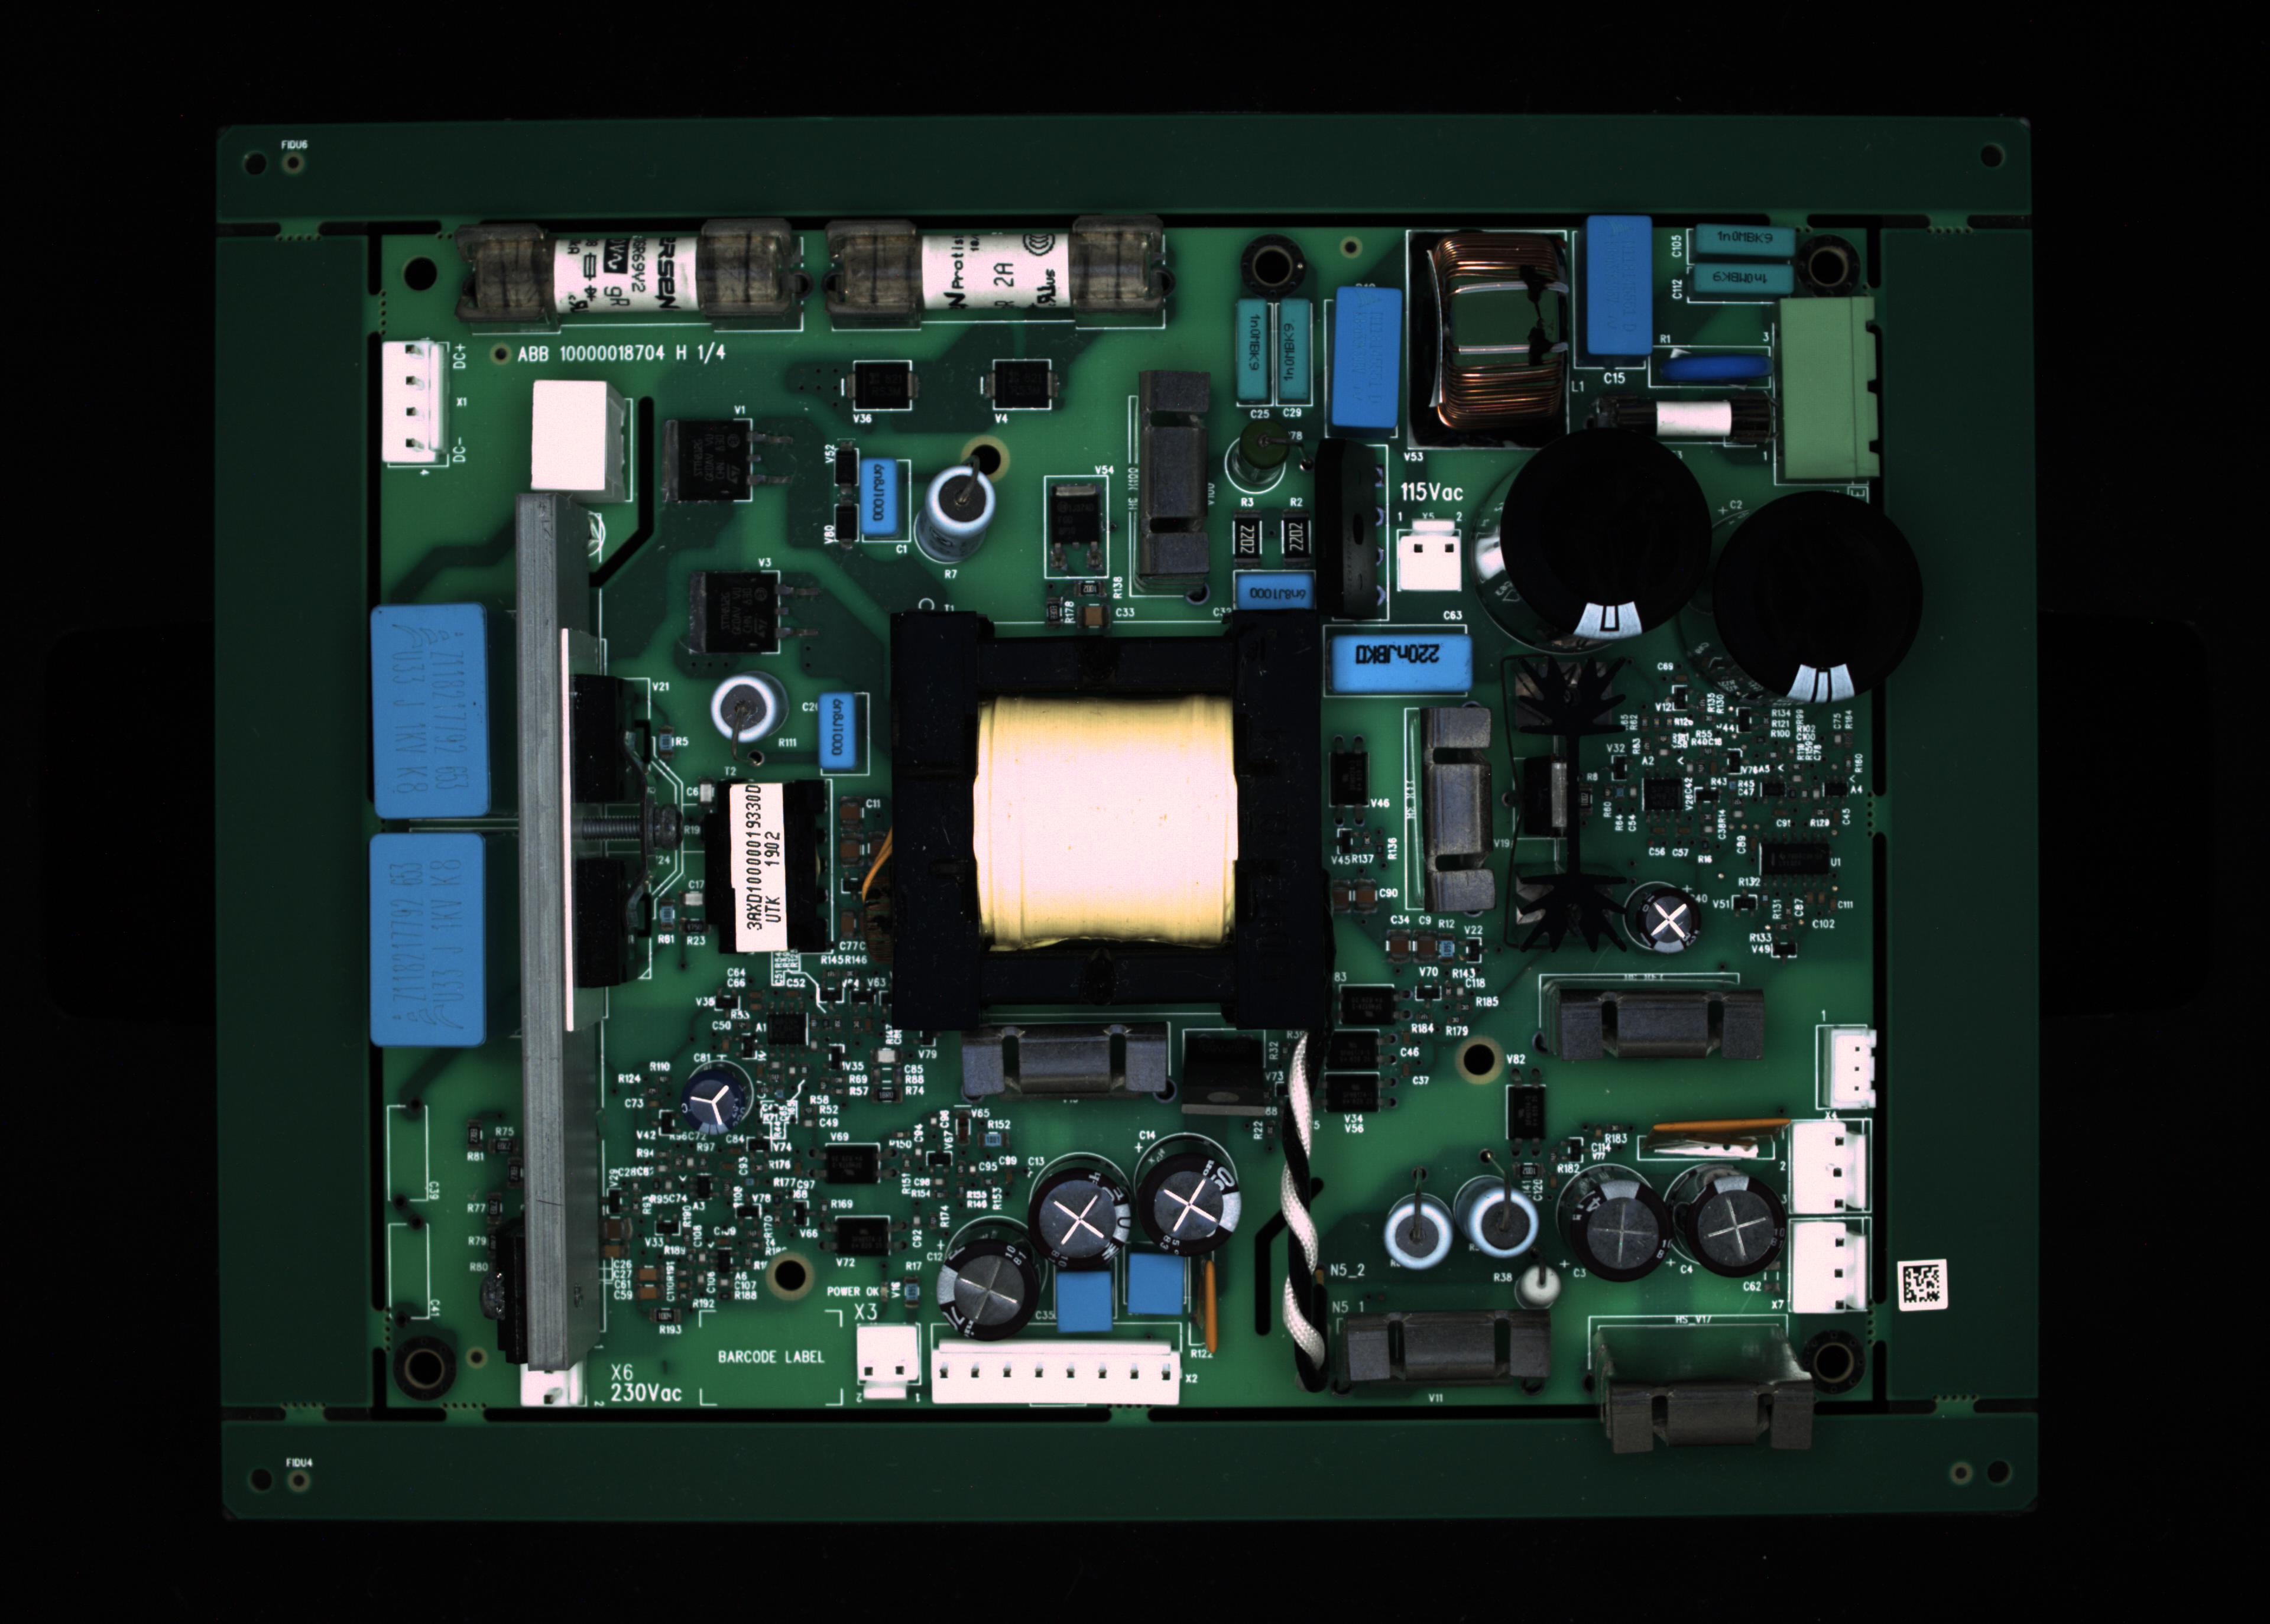10_p: (1648, 346, 1772, 394)
11_q: (1783, 295, 1880, 482)
12_r: (1591, 387, 1776, 455)
13_s: (380, 337, 443, 462)
14_t: (529, 380, 628, 497)
15_e: (858, 459, 899, 534)
16_k: (927, 464, 995, 533)
17_u: (1132, 369, 1204, 596)
18_v: (1234, 569, 1312, 608)
19_w: (1333, 636, 1466, 691)
1_a: (459, 223, 807, 332)
20_f: (1398, 522, 1463, 592)
21_g: (1498, 429, 1714, 638)
22_g: (1713, 494, 1925, 701)
23_h: (371, 603, 484, 816)
24_h: (369, 837, 484, 1048)
25_f: (519, 1359, 587, 1410)
26_f: (856, 1323, 921, 1401)
27_x: (927, 1336, 1185, 1406)
28_i: (1131, 1151, 1240, 1257)
29_i: (1027, 1153, 1134, 1274)
2_a: (821, 225, 1169, 320)
30_i: (941, 1216, 1055, 1339)
31_j: (1050, 1267, 1120, 1339)
32_j: (1115, 1237, 1197, 1329)
33_e: (816, 691, 853, 770)
34_k: (1384, 1192, 1456, 1271)
35_k: (1472, 1192, 1540, 1257)
36_i: (1570, 1176, 1672, 1280)
37_i: (1690, 1176, 1792, 1283)
38_l: (1335, 1318, 1560, 1390)
39_l: (1604, 1381, 1811, 1454)
3_b: (1236, 301, 1270, 399)
40_l: (1539, 988, 1772, 1069)
41_y: (1422, 701, 1496, 916)
42_z: (1823, 1028, 1878, 1114)
43_m: (1792, 1120, 1874, 1216)
44_m: (1788, 1225, 1876, 1311)
45_i: (679, 1072, 746, 1141)
46_n: (1338, 982, 1393, 1028)
47_n: (826, 1146, 879, 1186)
48_n: (832, 1218, 891, 1258)
49_aa: (765, 1011, 809, 1048)
4_b: (1280, 299, 1310, 402)
50_n: (1321, 1030, 1377, 1072)
51_n: (1322, 1070, 1379, 1114)
52_ab: (1329, 750, 1368, 807)
53_ac: (1656, 1130, 1790, 1165)
54_ad: (1194, 1253, 1222, 1364)
55_l: (960, 1025, 1176, 1102)
56_ae: (1175, 1028, 1273, 1107)
57_af: (1509, 647, 1635, 951)
58_i: (1635, 884, 1700, 954)
59_o: (993, 360, 1050, 410)
5_c: (1331, 286, 1400, 427)
60_o: (851, 360, 911, 413)
6_6: (1405, 232, 1572, 452)
7_c: (1582, 218, 1649, 371)
8_d: (1693, 225, 1795, 253)
9_d: (1693, 260, 1792, 294)
